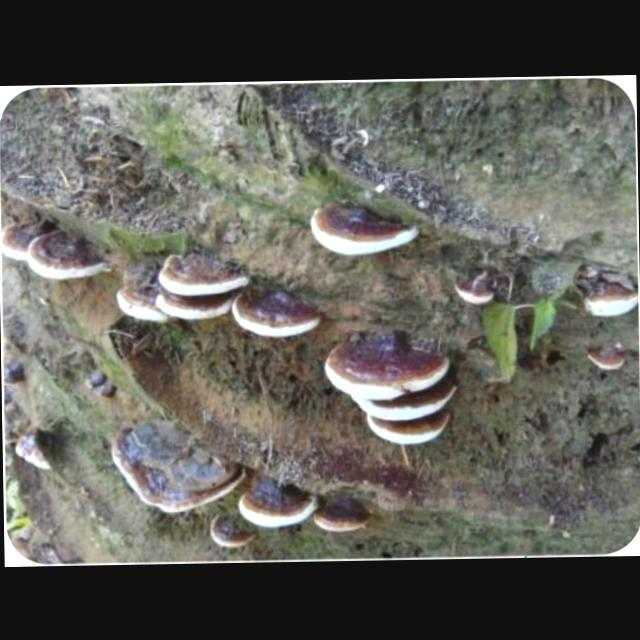ganoderma: (109, 413, 250, 515), (323, 325, 452, 402), (311, 200, 417, 259), (229, 287, 321, 342), (158, 248, 252, 296), (349, 384, 460, 424), (28, 228, 110, 282), (237, 482, 320, 530), (364, 412, 454, 449), (578, 274, 640, 319), (154, 288, 235, 322), (115, 284, 177, 324), (312, 498, 372, 533), (209, 513, 259, 548), (1, 220, 40, 263), (456, 268, 497, 306), (587, 343, 627, 372)
